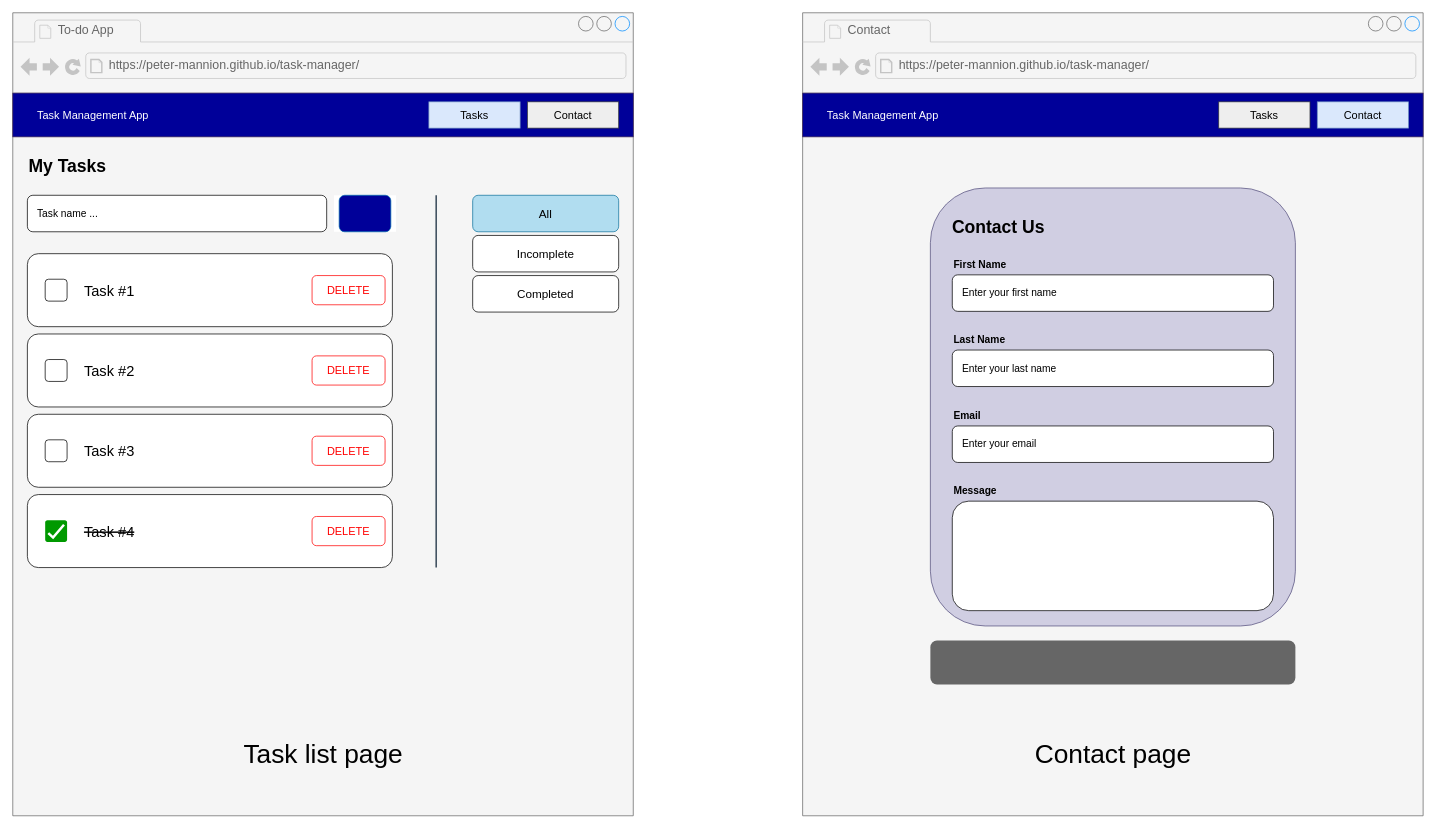
This 1436x829 diagram has some shape labels left out. Each missing label, with the box of its shape:
Add Task: (338, 195, 391, 232)
Submit Form: (930, 640, 1295, 684)
Type your message: (952, 500, 1273, 611)
